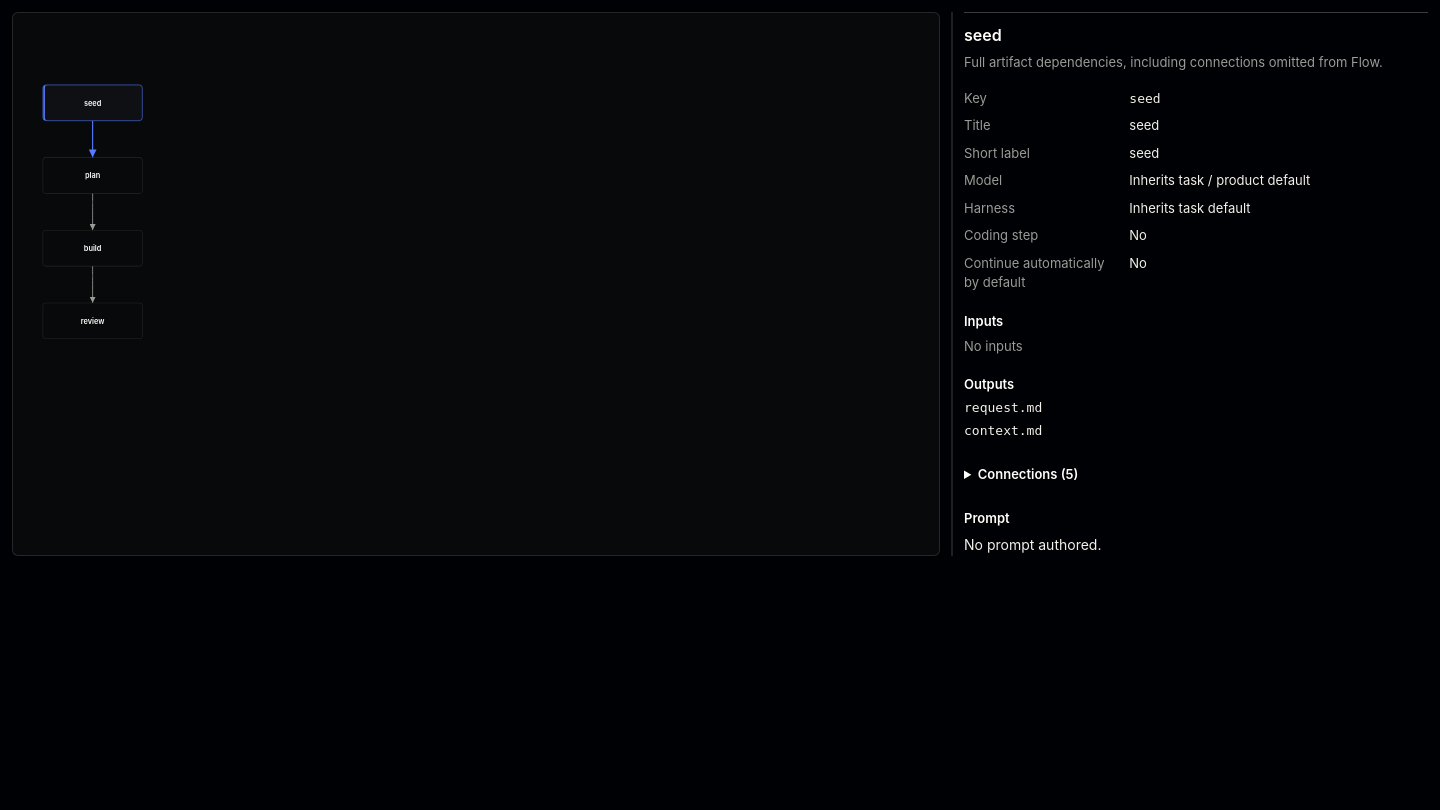
Test: hides every graph toolbar in the onboarding preview while keeping steps inspectable
Click the button with aria-label "Inspect build" at (93, 248), box [43,230,143,266]
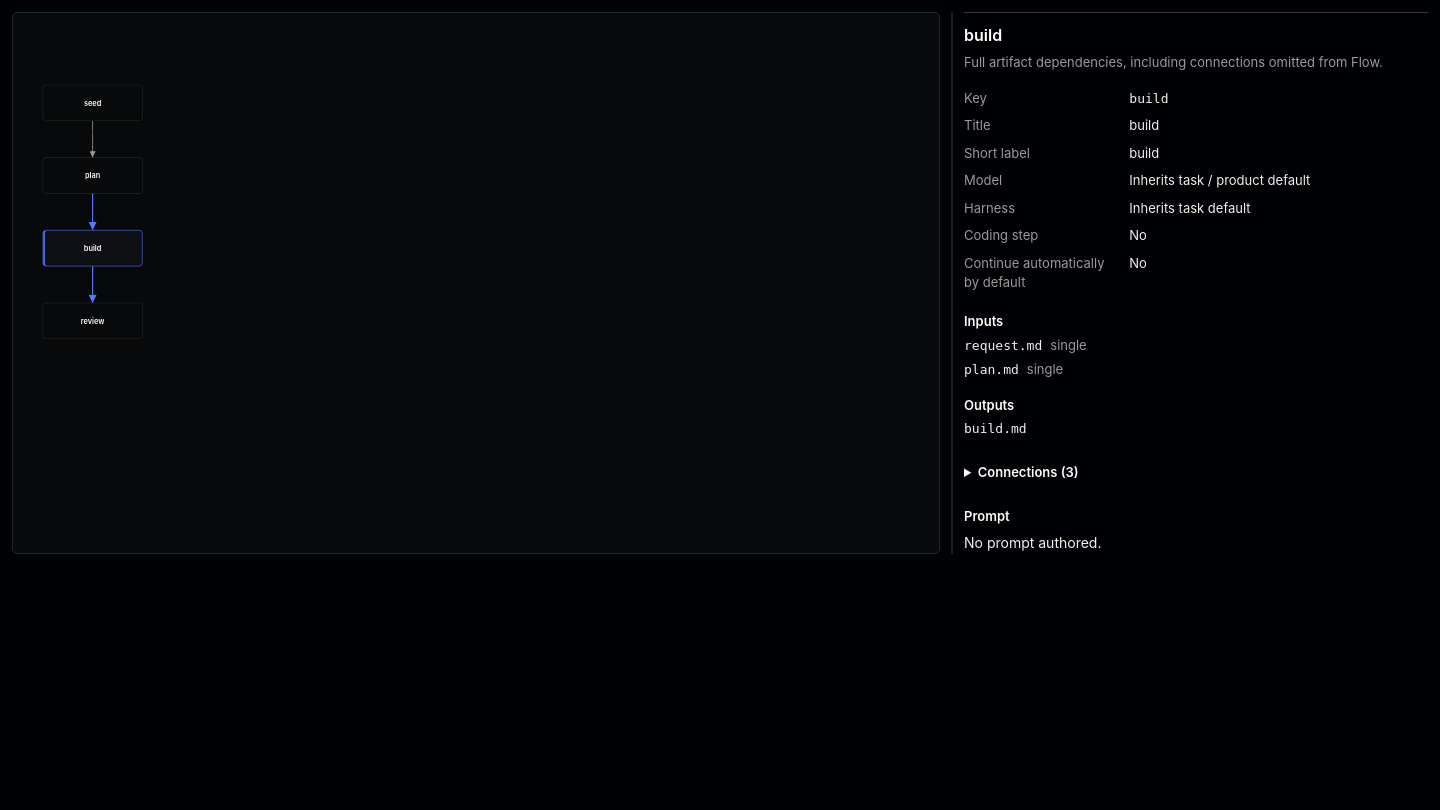
Check: the element named "build definition" is shown, box [964,12,1428,554]
